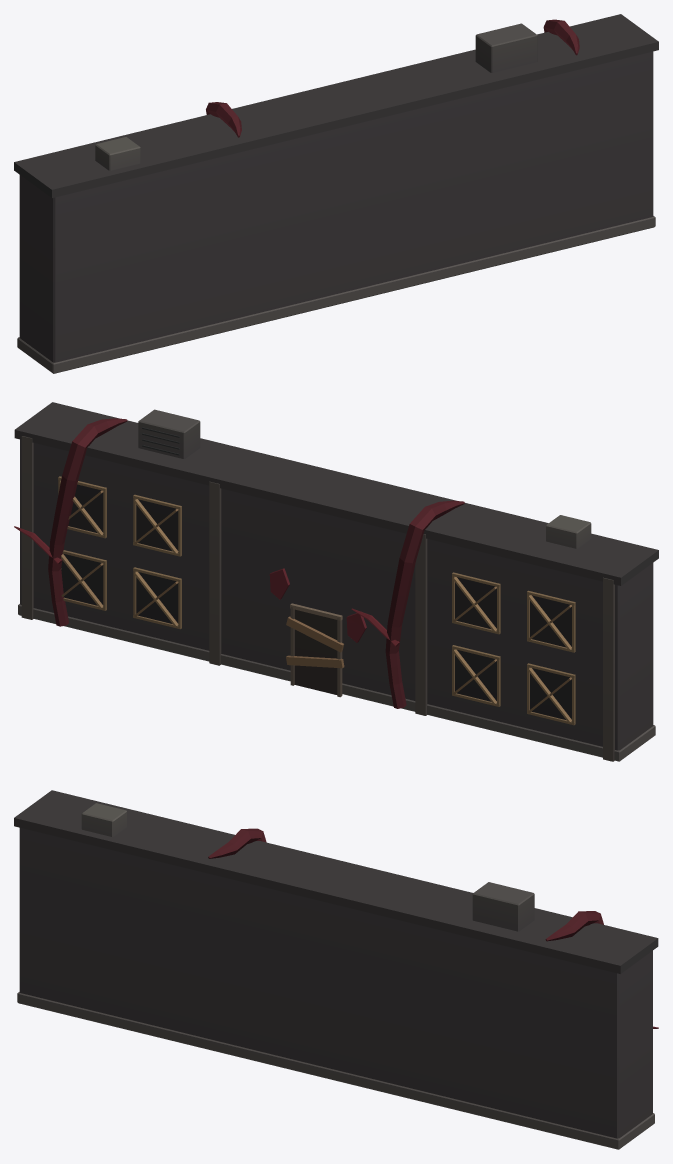
The model's file is PT_InfectedFacadeB.glb.
3 views of the same model, one above another, from view 1: azimuth 30°, elevation 25°; view 2: azimuth 150°, elevation 25°; view 3: azimuth 330°, elevation 25° (orthographic).
Parts seen in each view (by area): view 1: PT_InfectedFacadeB__Body; view 2: PT_InfectedFacadeB__Body; view 3: PT_InfectedFacadeB__Body.
Boxes of the visible parts, x1=… form: PT_InfectedFacadeB__Body: x1=14, y1=14, x2=658, y2=373; PT_InfectedFacadeB__Body: x1=14, y1=402, x2=658, y2=761; PT_InfectedFacadeB__Body: x1=14, y1=790, x2=658, y2=1149.
Bounding box in the file's own units: 64.7 × 21.7 × 8.56.
